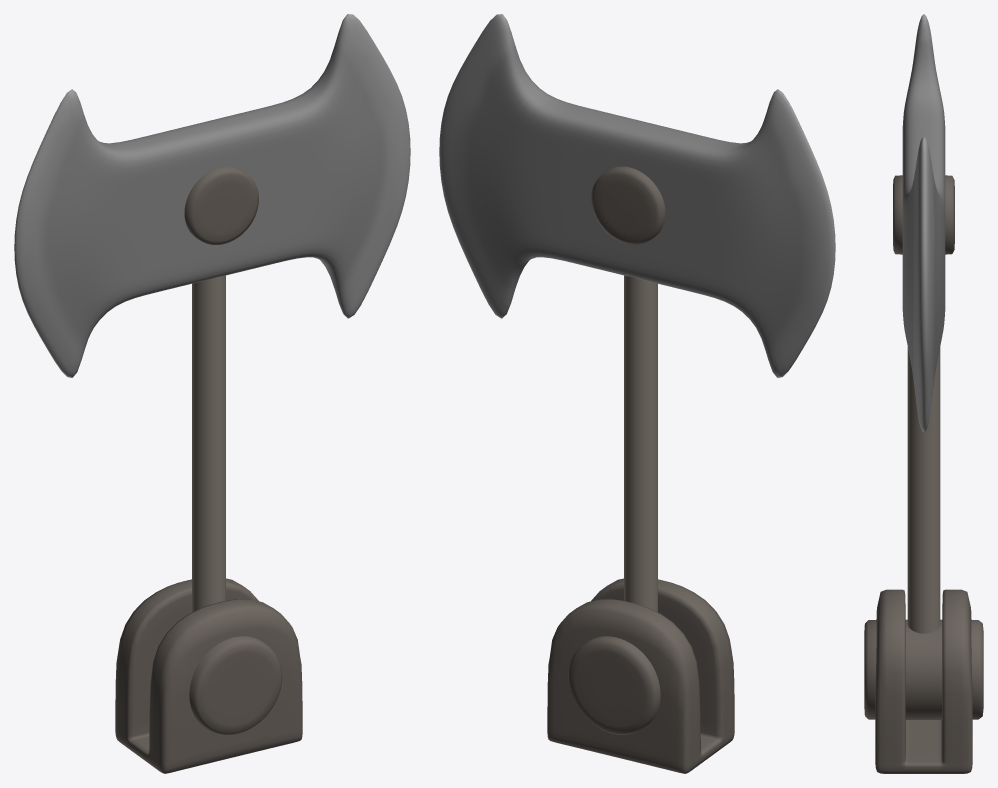
Rendered from hacha.fbx.
3 renders of one model, left to right at view 1: azimuth 30°, elevation 25°; view 2: azimuth 150°, elevation 25°; view 3: azimuth 270°, elevation 25°, orthographic. The views are drawn at different scales.
Visible parts, largest first — view 1: Cube, Cube.001, Cylinder, Cylinder.002, Cylinder.001; view 2: Cube, Cube.001, Cylinder, Cylinder.002, Cylinder.001; view 3: Cube, Cube.001, Cylinder, Cylinder.002, Cylinder.001.
Boxes of the visible parts, box(x1,y1,x2,y2) form: Cube: box(14, 14, 410, 377); Cube.001: box(115, 578, 302, 773); Cylinder: box(192, 275, 225, 612); Cylinder.002: box(189, 636, 282, 735); Cylinder.001: box(184, 166, 258, 244); Cube: box(439, 14, 835, 377); Cube.001: box(547, 578, 734, 773); Cylinder: box(624, 275, 657, 612); Cylinder.002: box(568, 636, 660, 734); Cylinder.001: box(591, 166, 665, 244); Cube: box(902, 14, 945, 431); Cube.001: box(875, 589, 972, 773); Cylinder: box(907, 347, 940, 633); Cylinder.002: box(864, 619, 983, 719); Cylinder.001: box(893, 175, 954, 254).
Size of the model in its own units: 485 by 812 by 131.
